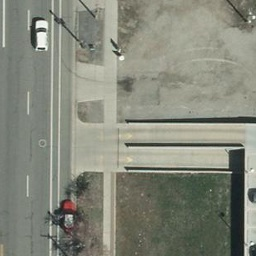car: (61, 199, 78, 233), (34, 20, 49, 51)
